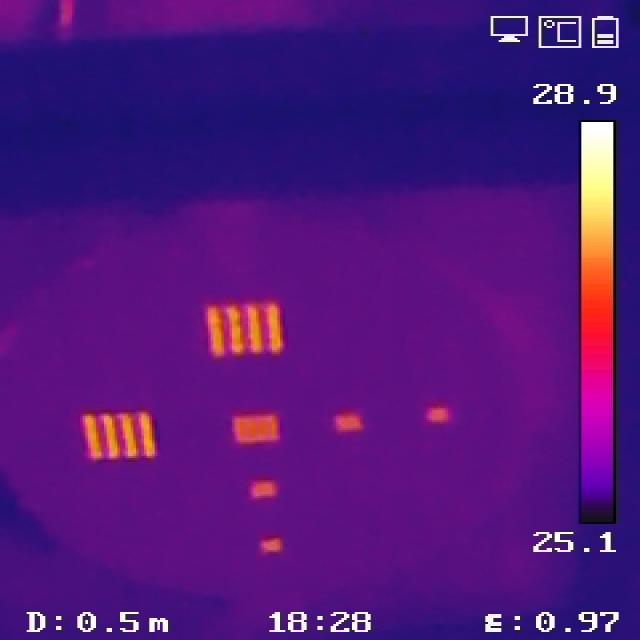Distinguishable 4-bar target: (197, 297, 292, 356), (80, 408, 161, 462)
Indistinguishable 4-bar target: (231, 416, 281, 446), (334, 412, 362, 431), (248, 476, 277, 494), (426, 408, 451, 426), (264, 538, 288, 554)
